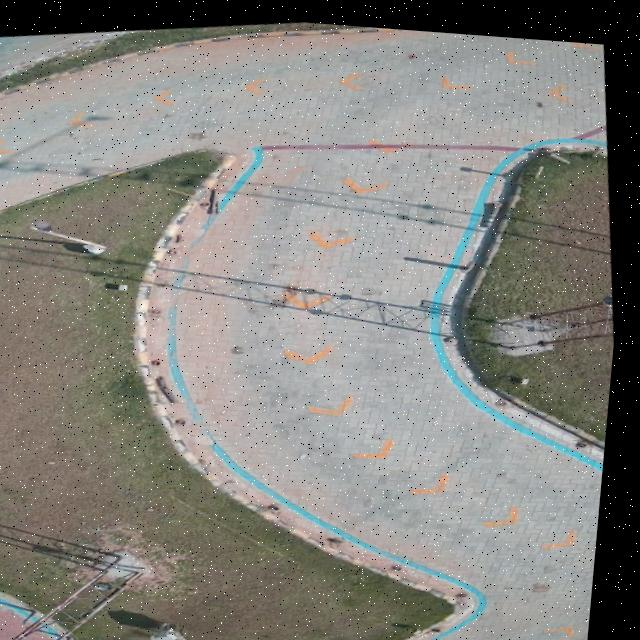No Car: (0, 17, 619, 640)
